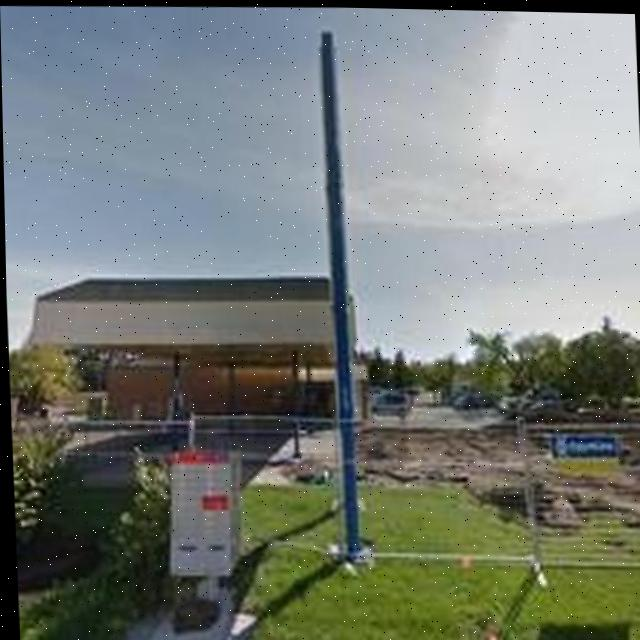building: (25, 266, 364, 441)
